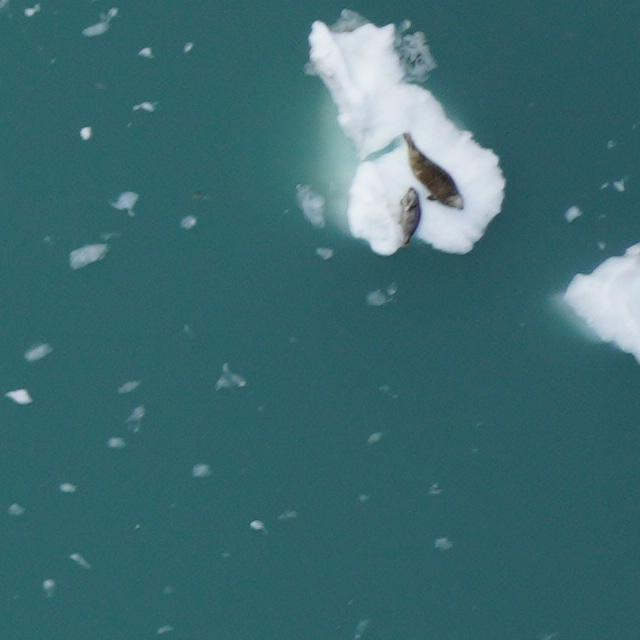seal: (397, 123, 468, 221), (395, 186, 425, 246)
